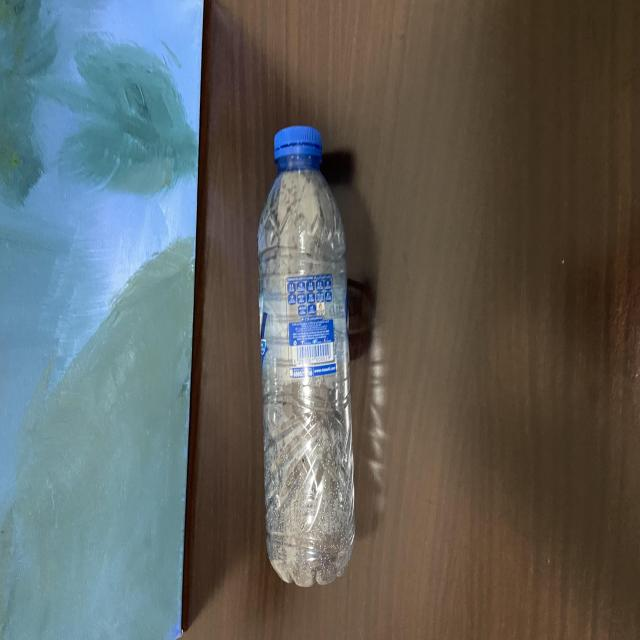bottle: (248, 116, 362, 592)
